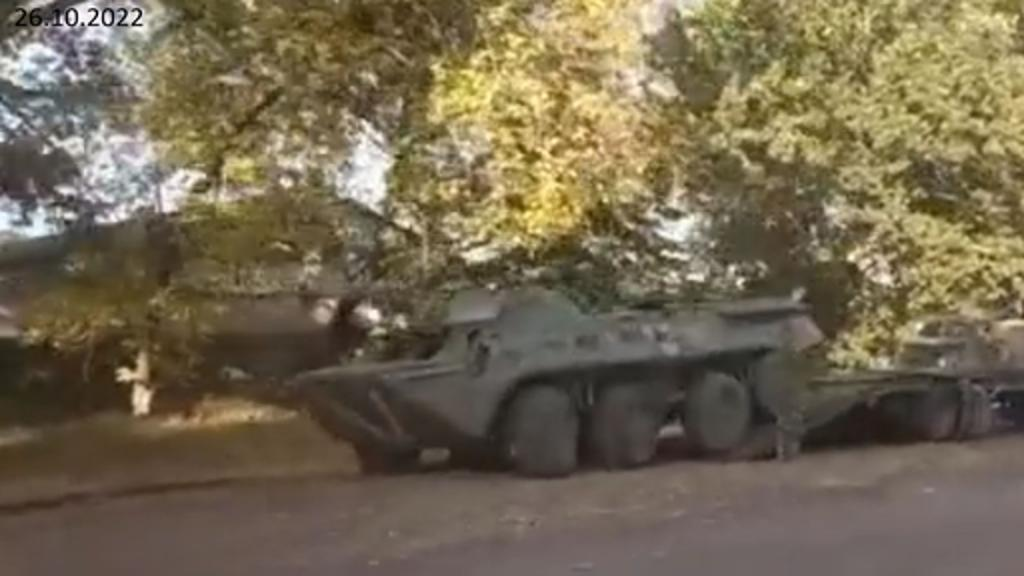APC-IFV: (278, 250, 830, 474)
